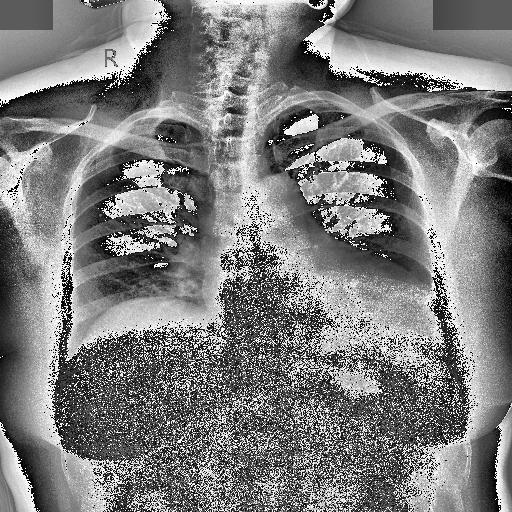0- Aortic enlargement: (244, 176, 314, 222)
3- Cardiomegaly: (199, 266, 440, 326), (198, 266, 430, 328), (196, 276, 428, 324)
